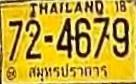2: (25, 19, 40, 59)
4: (56, 17, 73, 57)
6: (74, 17, 90, 57)
7: (93, 16, 109, 58), (8, 20, 22, 60)
9: (112, 17, 128, 56)
SPK: (25, 62, 111, 84)
